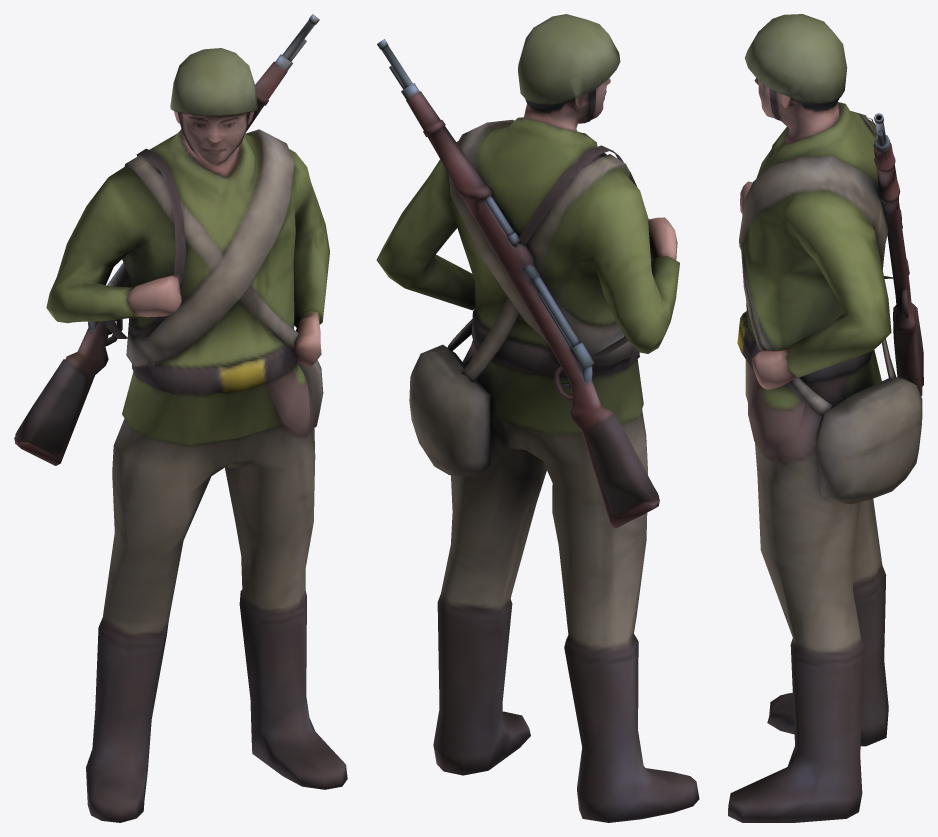
The model's file is Riflemen.glb.
3 renders of one model, left to right at view 1: azimuth 30°, elevation 25°; view 2: azimuth 150°, elevation 25°; view 3: azimuth 270°, elevation 25°, orthographic. The views are drawn at different scales.
Parts seen in each view (by area): view 1: low; view 2: low; view 3: low.
Part boxes in pixels (box(x1,y1,x2,y2)): low: box(14, 14, 347, 822); low: box(376, 14, 699, 822); low: box(728, 14, 923, 822).
Size of the model in its own units: 0.691 by 1.69 by 0.3983.
1 material, 1 textured.
